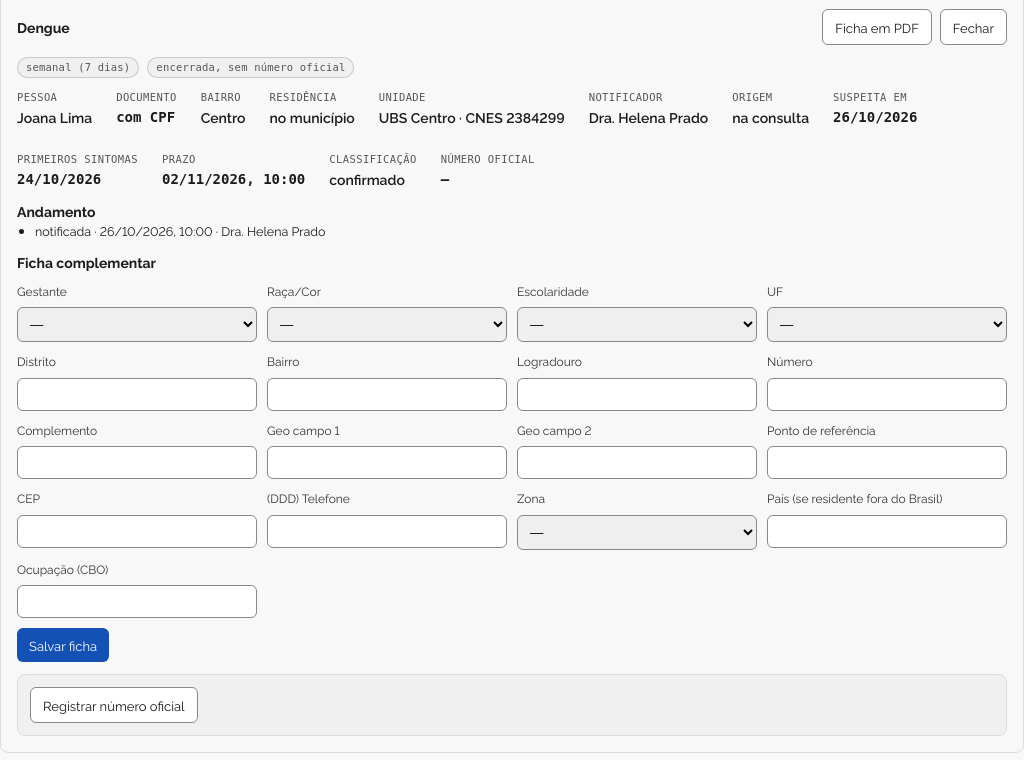
Scenario: NotificationDetail › número oficial com espaço, inclusive nas pontas, é recusado e nada é enviado
The image size is (1024, 760).
Click the button "Registrar número oficial". click: (114, 705)
box: [30,687,198,723]
(page scrolled)
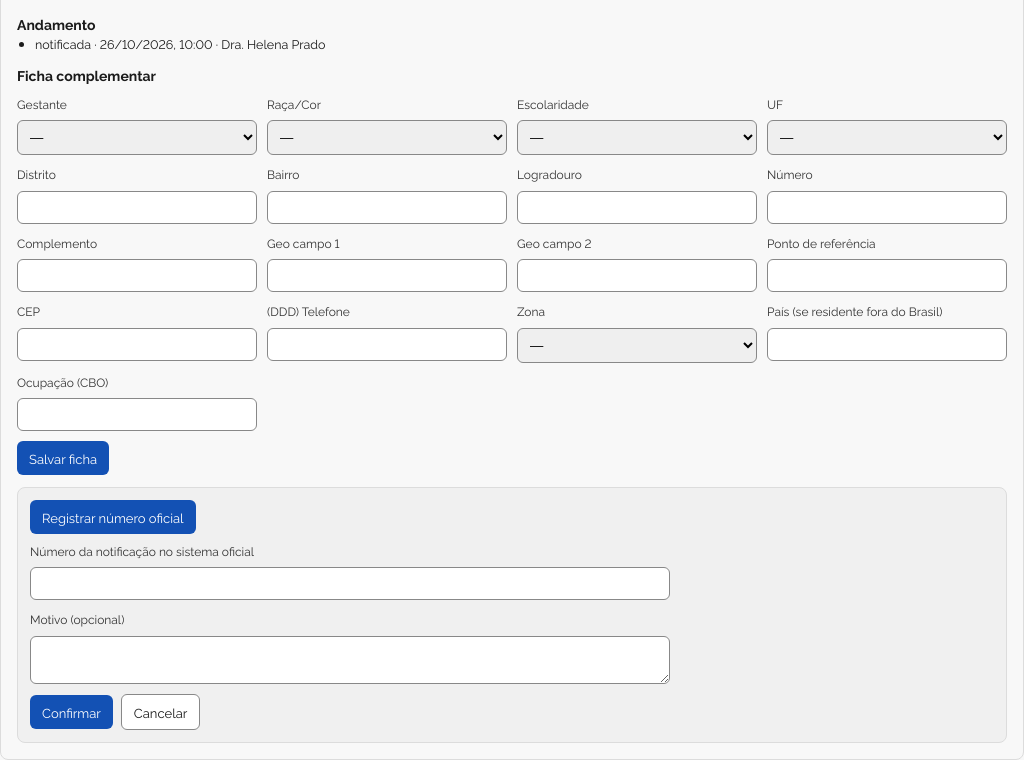
Type " 1234 " into the field labelled "Número da notificação no sistema oficial". click: (350, 584)
box: [30,567,670,600]
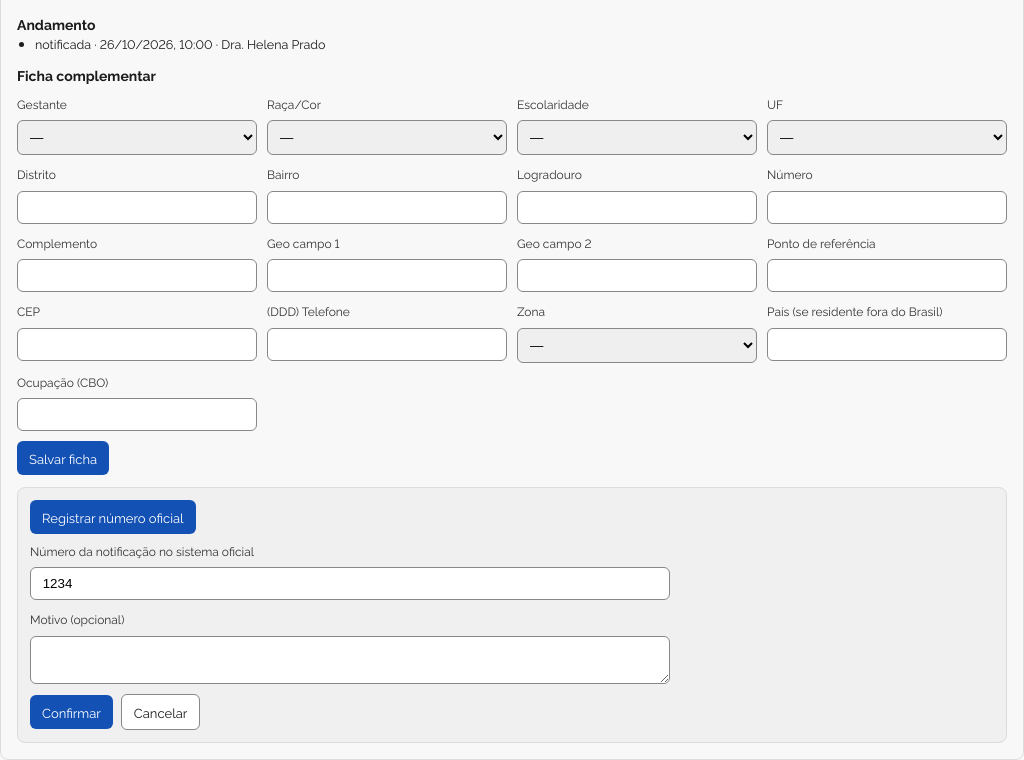
Click the button "Confirmar". click: (71, 712)
box: [30,695,113,729]
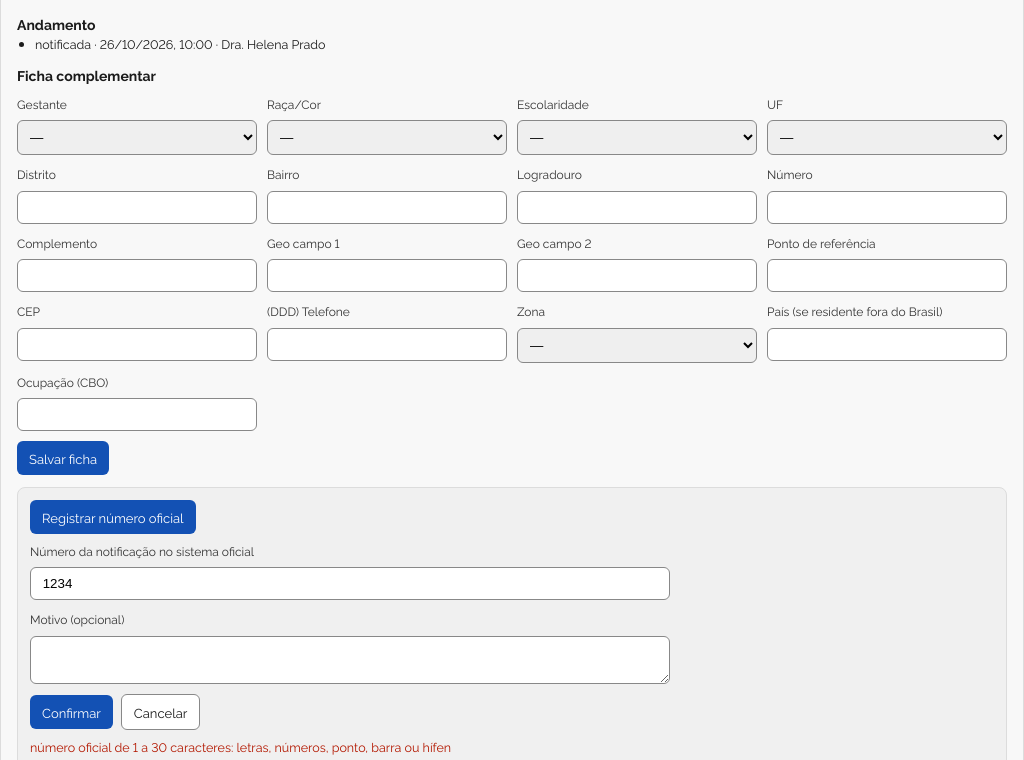
Check: the message reads "número oficial de 1 a 30 caracteres: letras, números, ponto, barra ou hífen", box [30,738,451,755]
